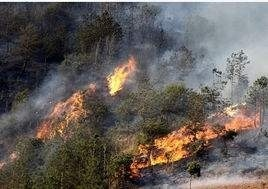fire: (129, 96, 263, 174), (32, 80, 97, 140), (103, 55, 138, 95), (0, 146, 19, 169)
